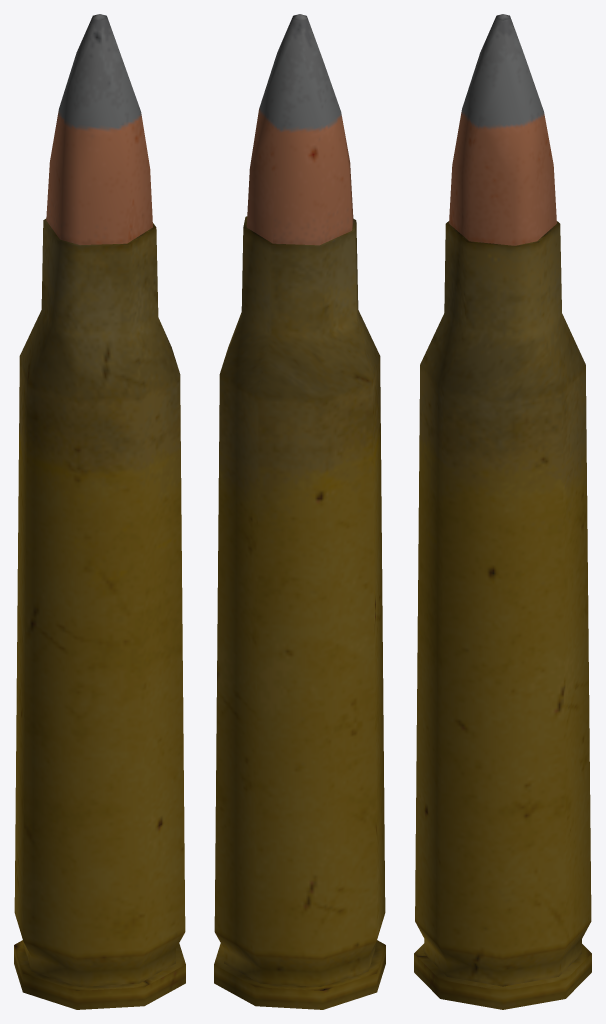
Rendered from RoundsRifleVanilla.fbx.
3 renders of one model, left to right at view 1: azimuth 30°, elevation 25°; view 2: azimuth 150°, elevation 25°; view 3: azimuth 270°, elevation 25°, orthographic.
Visible parts, largest first — view 1: RoundsRifleVanilla; view 2: RoundsRifleVanilla; view 3: RoundsRifleVanilla.
Boxes of the visible parts, x1=… form: RoundsRifleVanilla: x1=14, y1=14, x2=185, y2=1009; RoundsRifleVanilla: x1=214, y1=14, x2=385, y2=1009; RoundsRifleVanilla: x1=414, y1=14, x2=591, y2=1009.
Bounding box in the file's own units: 0.00819 × 0.0487 × 0.00819.
